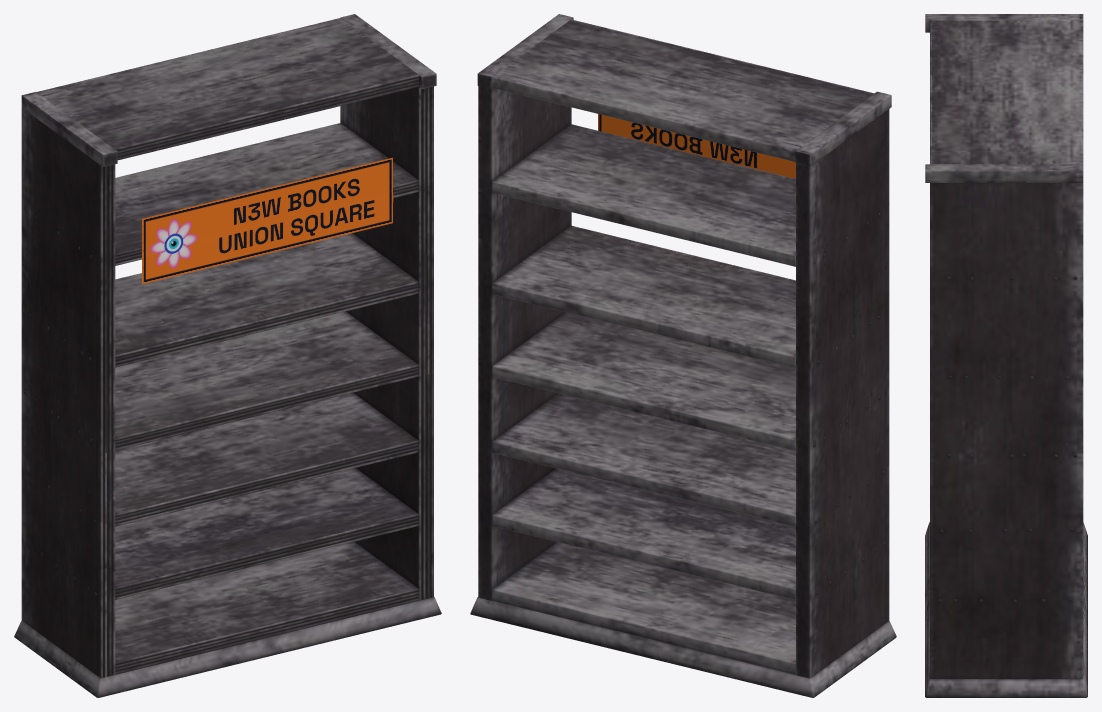
Rendered from nyb_eternal_books.glb.
3 renders of one model, left to right at view 1: azimuth 30°, elevation 25°; view 2: azimuth 150°, elevation 25°; view 3: azimuth 270°, elevation 25°, orthographic. The views are drawn at different scales.
Visible parts, largest first — view 1: wooden_bookshelf_worn, stk_lbl_90994f6692.png; view 2: wooden_bookshelf_worn, stk_lbl_90994f6692.png; view 3: wooden_bookshelf_worn.
Part boxes in pixels (x1,y1,x2,y2): wooden_bookshelf_worn: [14, 14, 441, 697]; stk_lbl_90994f6692.png: [142, 157, 393, 284]; wooden_bookshelf_worn: [470, 14, 896, 697]; stk_lbl_90994f6692.png: [598, 114, 795, 178]; wooden_bookshelf_worn: [925, 14, 1087, 697].
Bounding box in the file's own units: 1.37 × 2.06 × 0.5813.
Materials: 2 (2 with a texture image).
